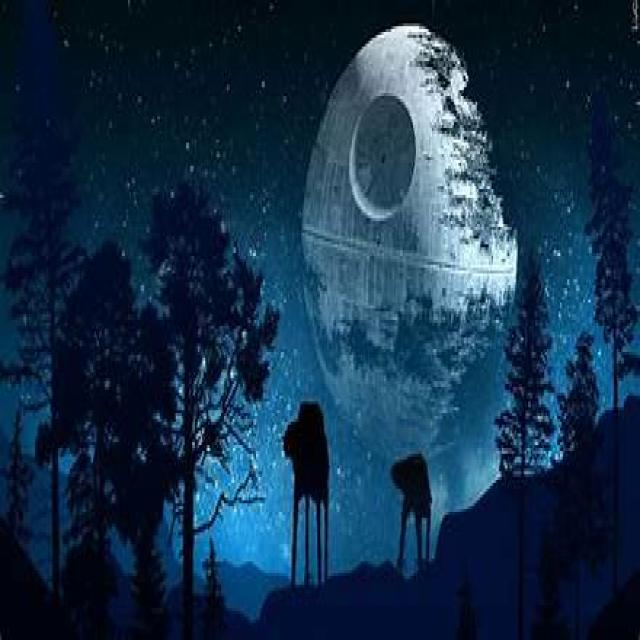deathStar: (297, 16, 521, 464)
